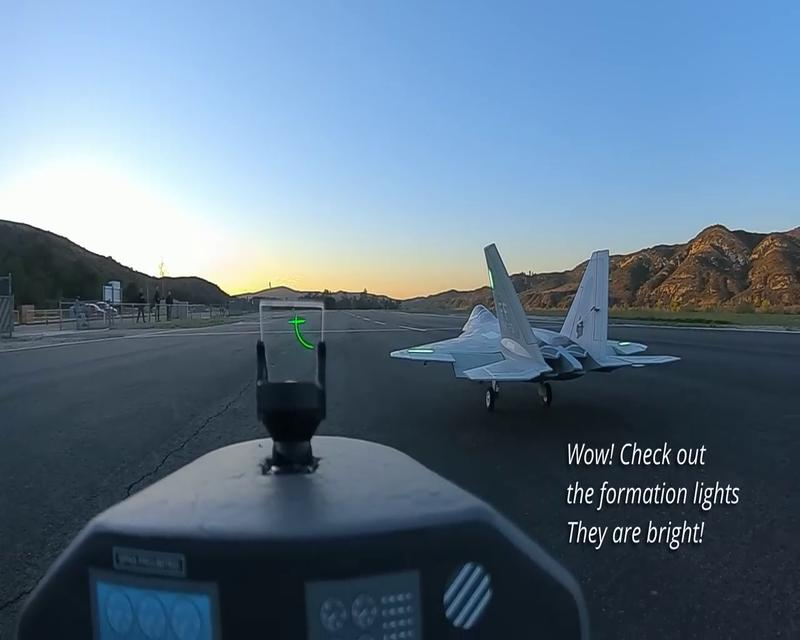UAV: (388, 241, 681, 412)
